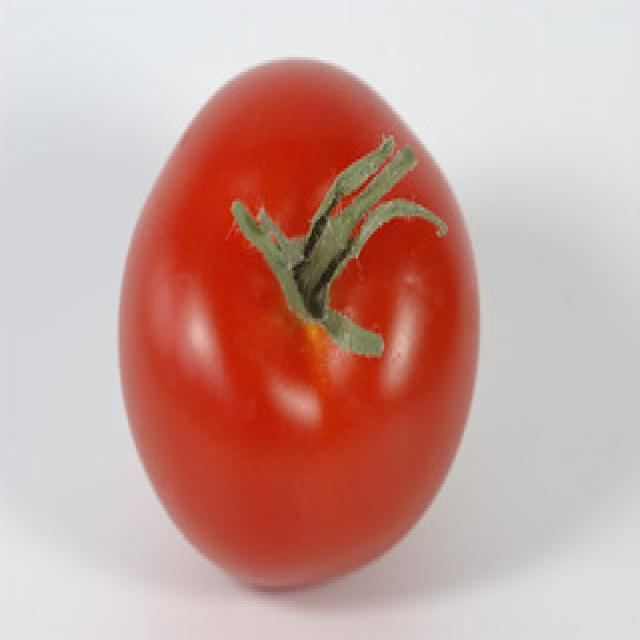kirmizi: (100, 54, 498, 606)
